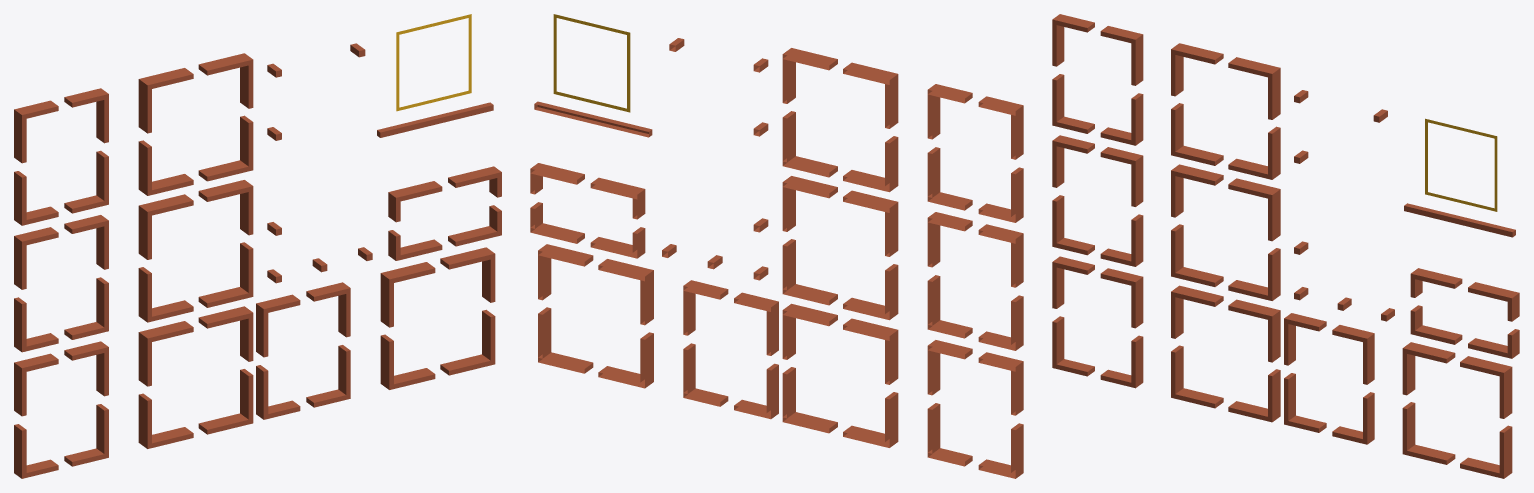
The model's file is construction_0.glb.
The picture shows the model from 3 angles, left to right: view 1: azimuth 30°, elevation 25°; view 2: azimuth 150°, elevation 25°; view 3: azimuth 330°, elevation 25°; orthographic projection. The views are drawn at different scales.
Visible parts, largest first — view 1: t11_g57, t30_g57, t12_g57, t10_g57, t01_g56, t00_g56, t02_g56, t20_g56, t31_g54, t32_g55, t21_g52; view 2: t10_g57, t11_g57, t12_g57, t30_g57, t00_g56, t01_g56, t02_g56, t20_g56, t31_g54, t32_g55, t21_g52; view 3: t30_g57, t12_g57, t11_g57, t10_g57, t01_g56, t02_g56, t00_g56, t20_g56, t31_g54, t32_g55, t21_g52.
Boxes of the visible parts, x1,y1,x2,y2 form: t11_g57: [138, 180, 253, 322]; t30_g57: [380, 247, 495, 389]; t12_g57: [138, 53, 253, 195]; t10_g57: [138, 306, 253, 448]; t01_g56: [14, 215, 108, 352]; t00_g56: [14, 341, 108, 478]; t02_g56: [14, 88, 108, 225]; t20_g56: [256, 282, 350, 419]; t31_g54: [388, 166, 501, 260]; t32_g55: [377, 14, 493, 137]; t21_g52: [267, 222, 372, 283]; t10_g57: [782, 303, 898, 447]; t11_g57: [782, 176, 898, 320]; t12_g57: [782, 48, 898, 192]; t30_g57: [538, 244, 653, 388]; t00_g56: [927, 340, 1023, 478]; t01_g56: [927, 212, 1023, 350]; t02_g56: [927, 84, 1023, 222]; t20_g56: [683, 280, 778, 419]; t31_g54: [530, 163, 645, 258]; t32_g55: [534, 14, 652, 137]; t21_g52: [662, 218, 768, 280]; t30_g57: [1402, 342, 1512, 478]; t12_g57: [1171, 43, 1280, 179]; t11_g57: [1171, 164, 1280, 300]; t10_g57: [1171, 285, 1280, 422]; t01_g56: [1052, 135, 1143, 266]; t02_g56: [1052, 14, 1143, 145]; t00_g56: [1052, 256, 1143, 388]; t20_g56: [1284, 313, 1374, 444]; t31_g54: [1410, 268, 1519, 358]; t32_g55: [1404, 118, 1515, 237]; t21_g52: [1294, 241, 1394, 321].
Size of the model in its own units: 63.5 by 46 by 2.
